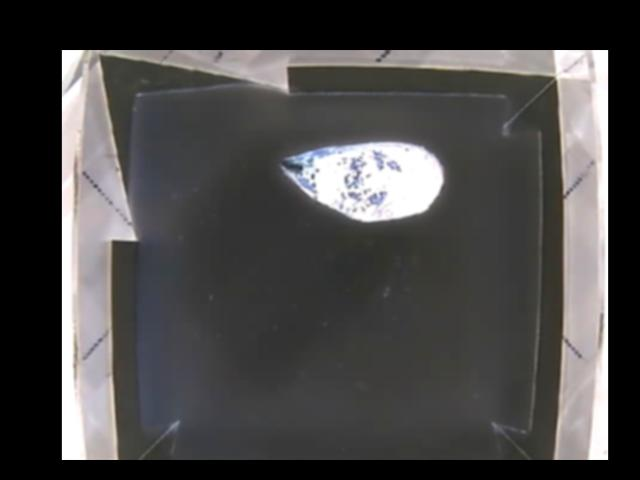Shell: (279, 141, 444, 219)
